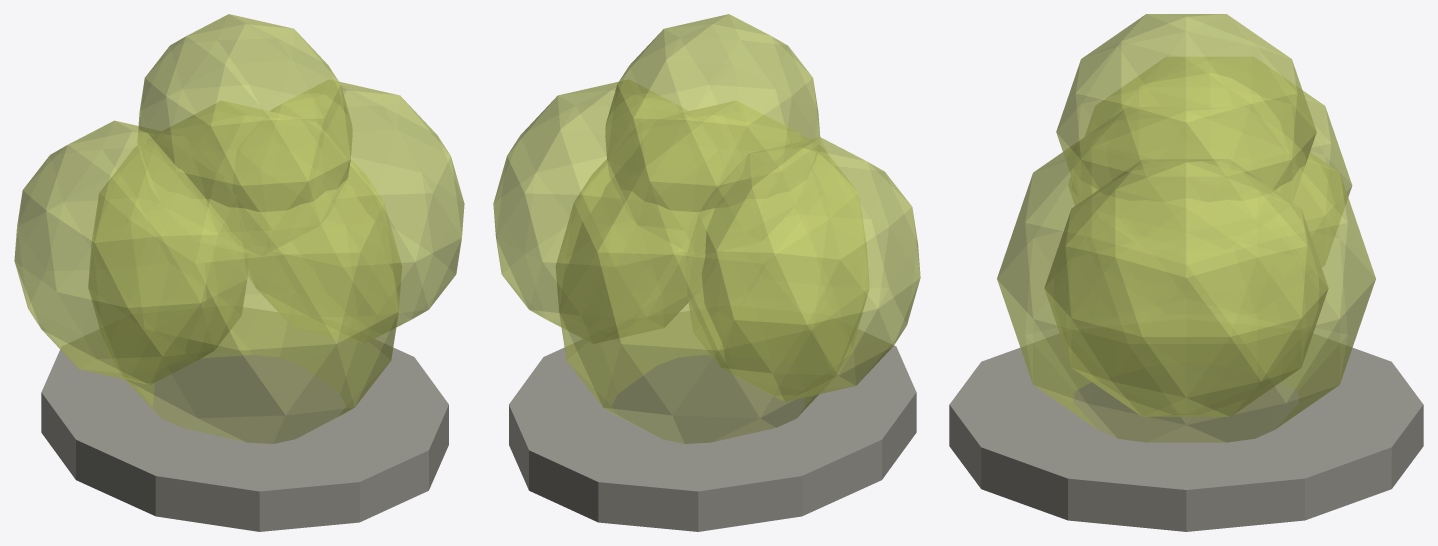
File: grisu.glb
The picture shows the model from 3 angles, left to right: view 1: azimuth 30°, elevation 25°; view 2: azimuth 150°, elevation 25°; view 3: azimuth 270°, elevation 25°; orthographic projection. The views are drawn at different scales.
Visible parts, largest first — view 1: grisu; view 2: grisu; view 3: grisu.
Part boxes in pixels (x1=…): grisu: x1=14, y1=14, x2=464, y2=531; grisu: x1=493, y1=14, x2=920, y2=531; grisu: x1=949, y1=14, x2=1423, y2=531.
Bounding box in the file's own units: 2.5 × 2.5 × 2.5.
